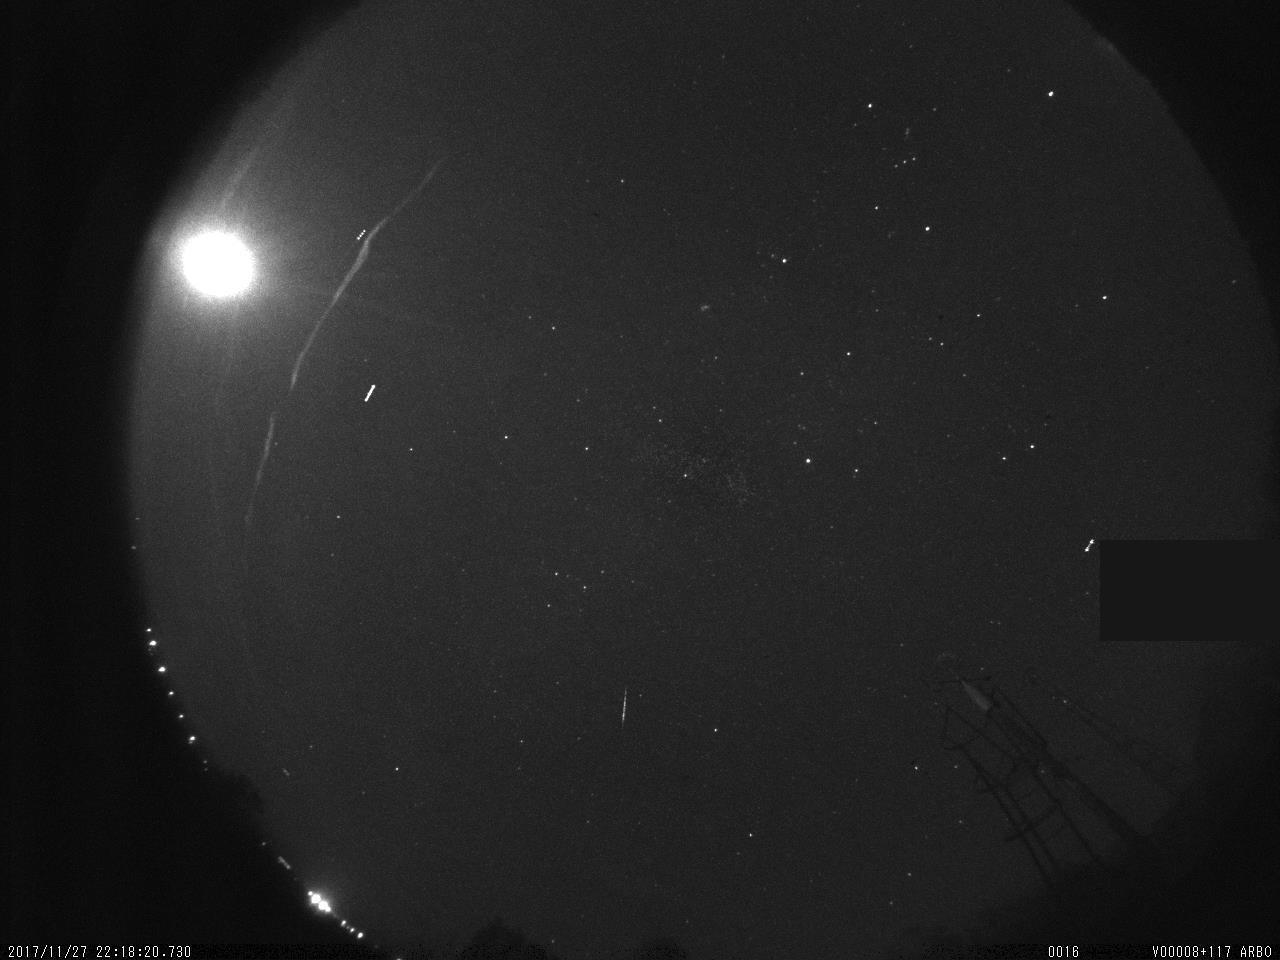meteor: (613, 683, 634, 732)
satelite: (359, 379, 381, 407), (1079, 533, 1100, 560), (353, 220, 370, 246)
